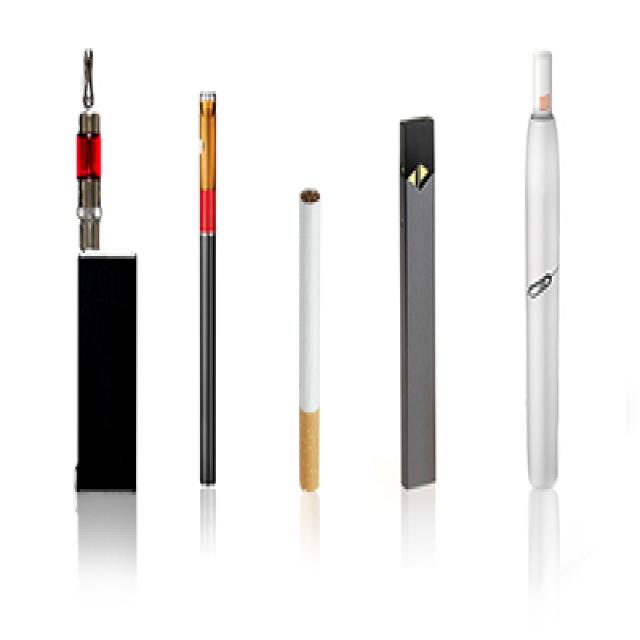Cigarette: (77, 50, 137, 495), (396, 112, 440, 492), (526, 50, 558, 489), (198, 90, 218, 490), (298, 183, 322, 494)
